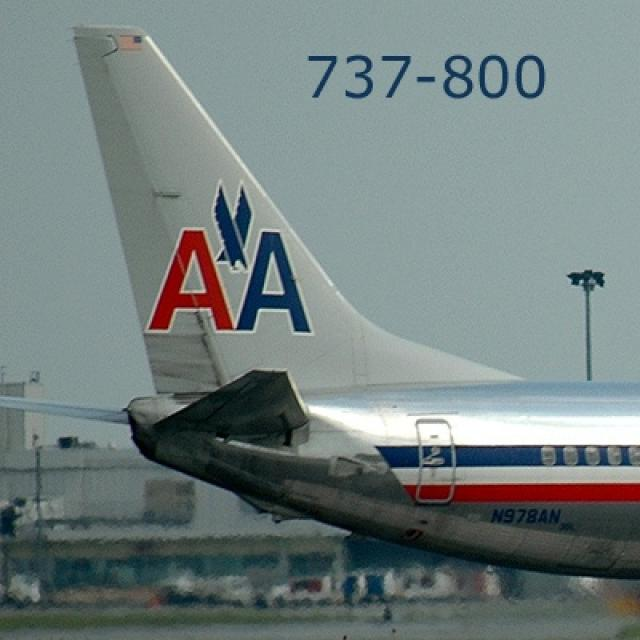aeroplane: (9, 19, 638, 586)
